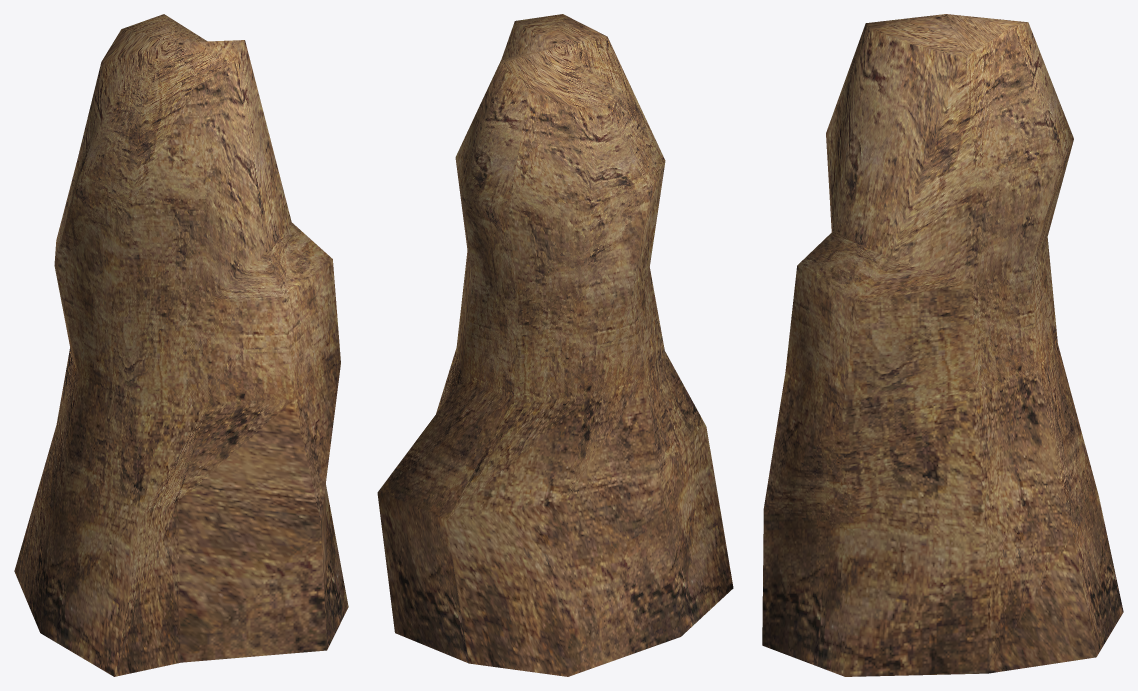
The model's file is cj_cd_cliff_m_01.glb.
3 renders of one model, left to right at view 1: azimuth 30°, elevation 25°; view 2: azimuth 150°, elevation 25°; view 3: azimuth 270°, elevation 25°, orthographic. The views are drawn at different scales.
Parts seen in each view (by area): view 1: w_cd_cliff_m_01; view 2: w_cd_cliff_m_01; view 3: w_cd_cliff_m_01.
Part boxes in pixels (x1,y1,x2,y2): w_cd_cliff_m_01: [14, 14, 348, 676]; w_cd_cliff_m_01: [377, 14, 733, 676]; w_cd_cliff_m_01: [762, 14, 1123, 676].
Size of the model in its own units: 7.51 by 15.62 by 8.6.
1 material, 1 textured.
